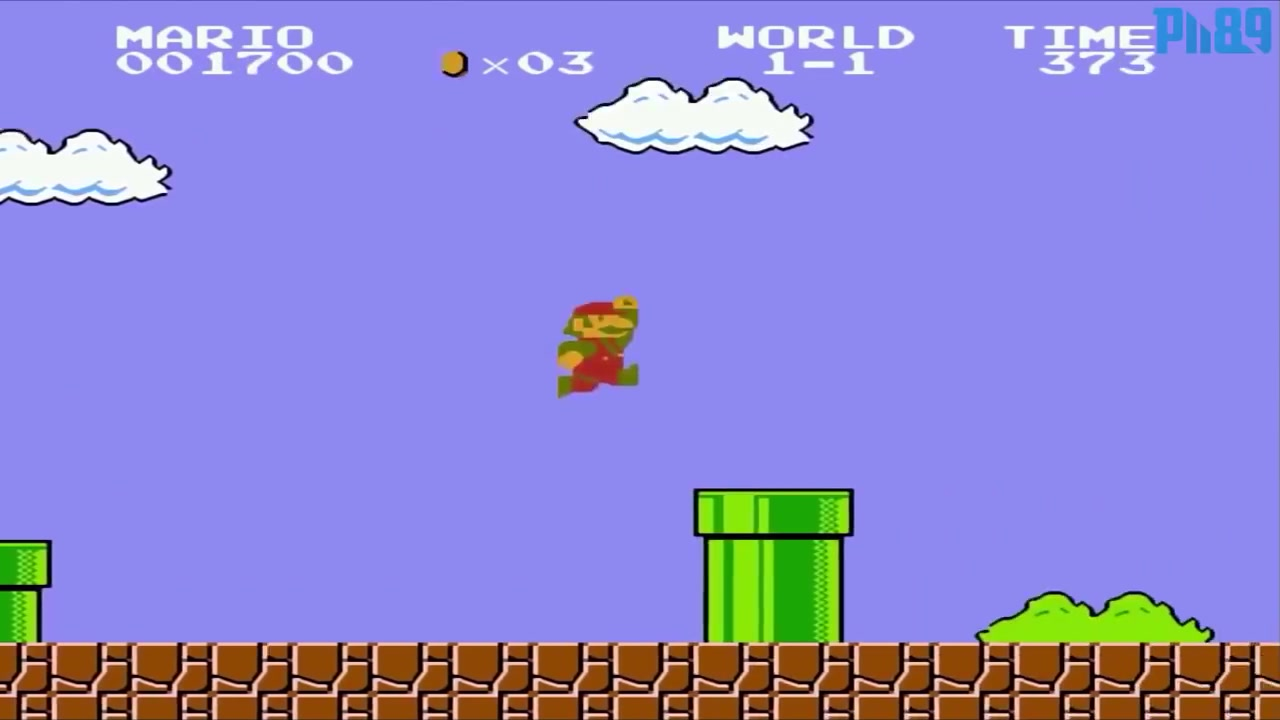mario: (552, 291, 646, 407)
